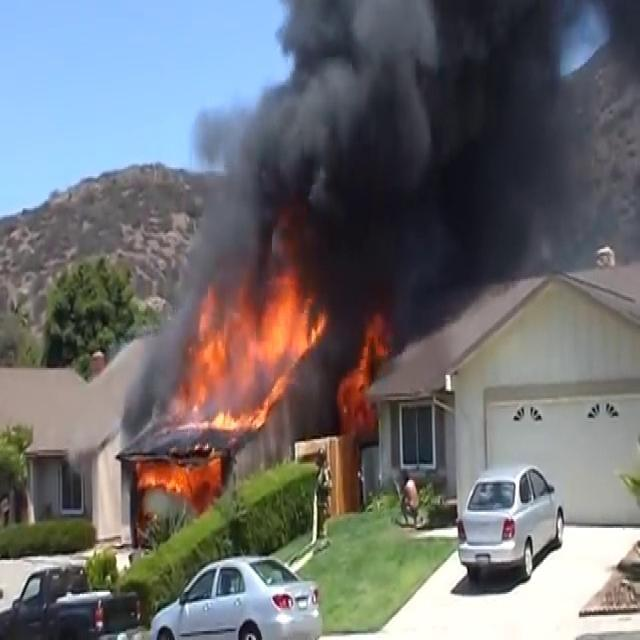Fire: (172, 268, 321, 432), (132, 458, 222, 508)
Smoke: (159, 0, 607, 345)
